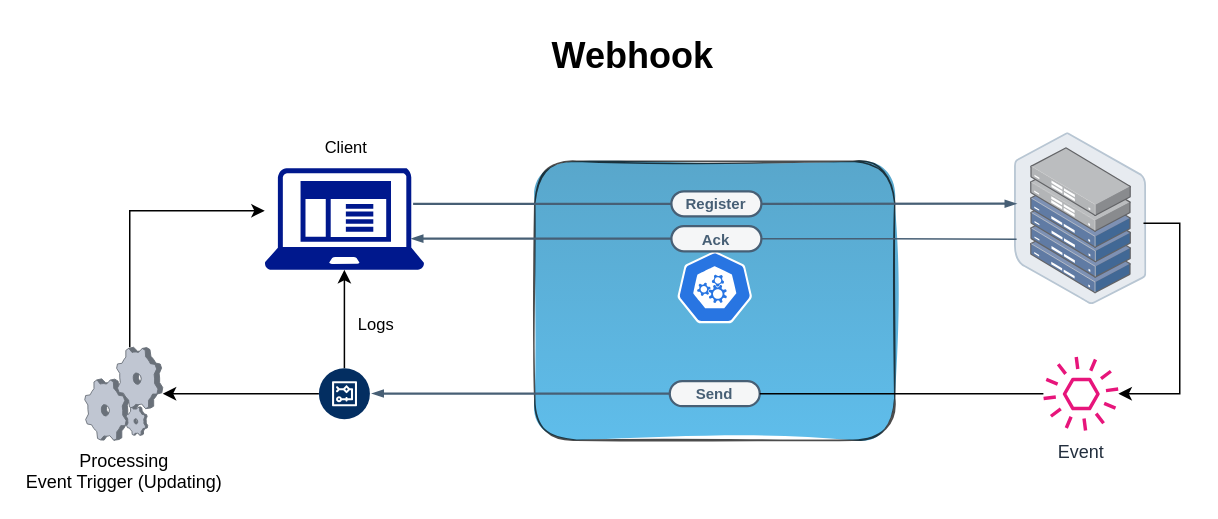
Some shapes in this 1218 by 519 pixel diagram are drawn without their labels. Each missing label, with the centre of its shape:
API Service: (714,286)
Server: (1080,218)
Workflow (XHR Redirect): (343,393)
